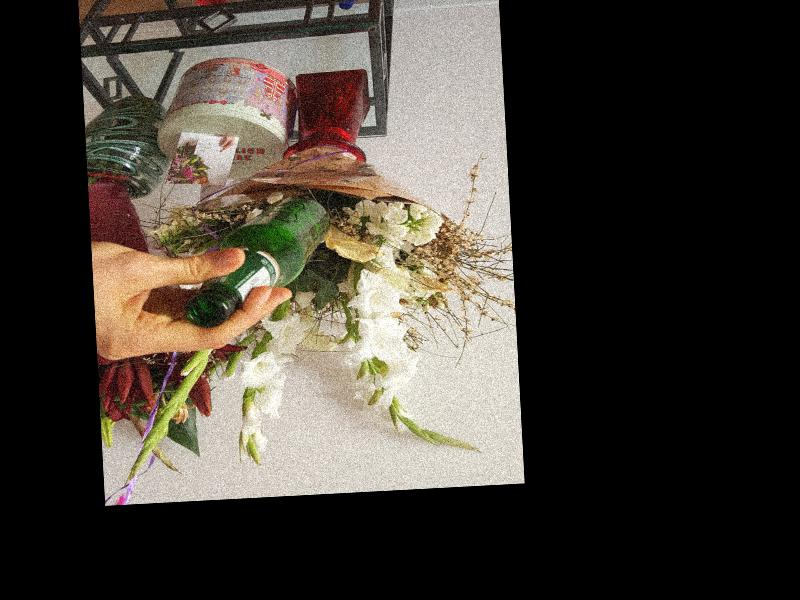Beer: (181, 196, 334, 328)
